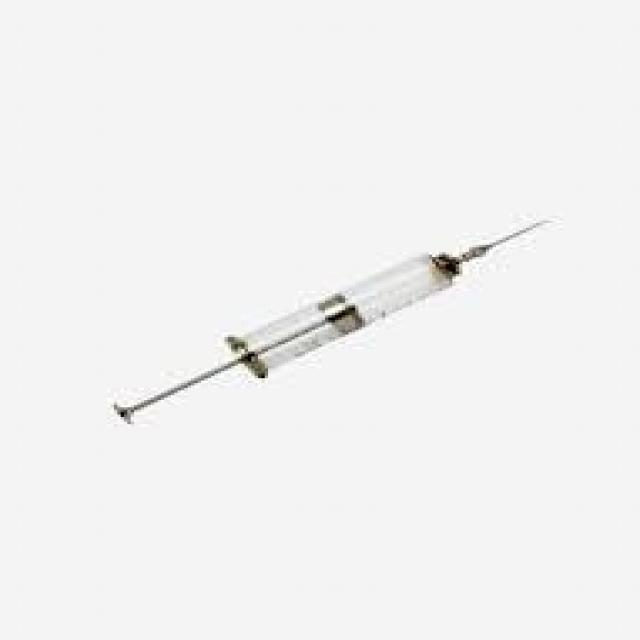syringe: (127, 214, 550, 431)
